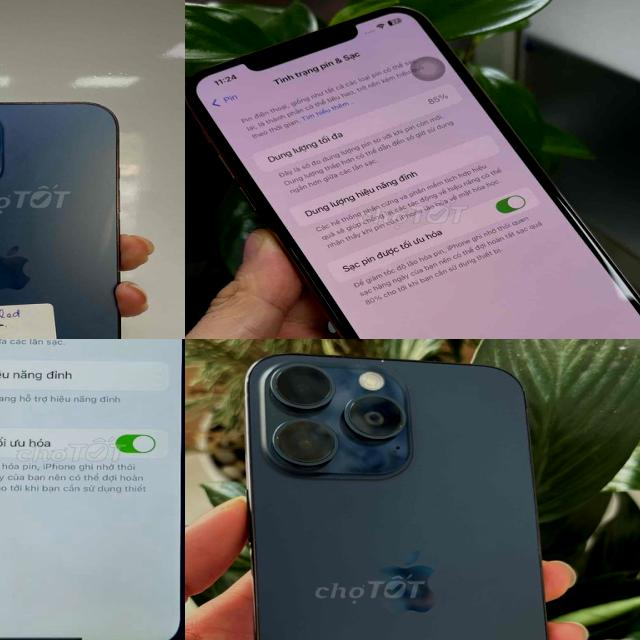gen_11: (185, 6, 640, 339)
gen_12_13: (0, 97, 140, 339)
gen_15: (220, 339, 580, 640)
gen_x_xs: (0, 339, 185, 640)
